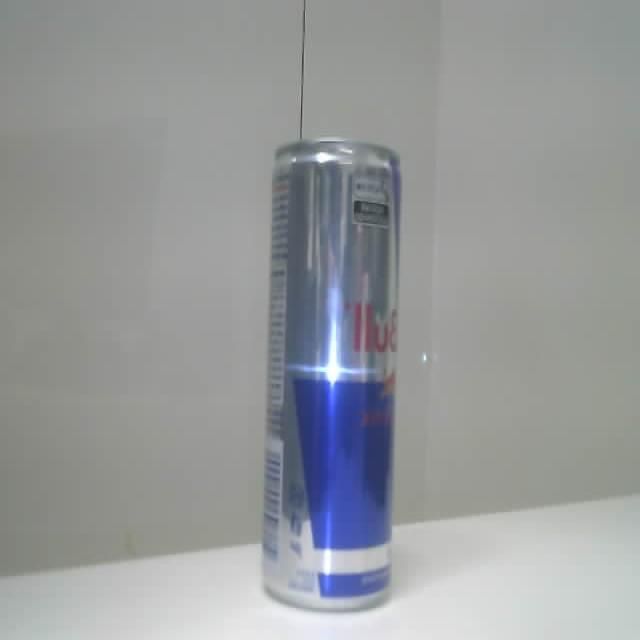redbull can: (263, 139, 399, 609)
